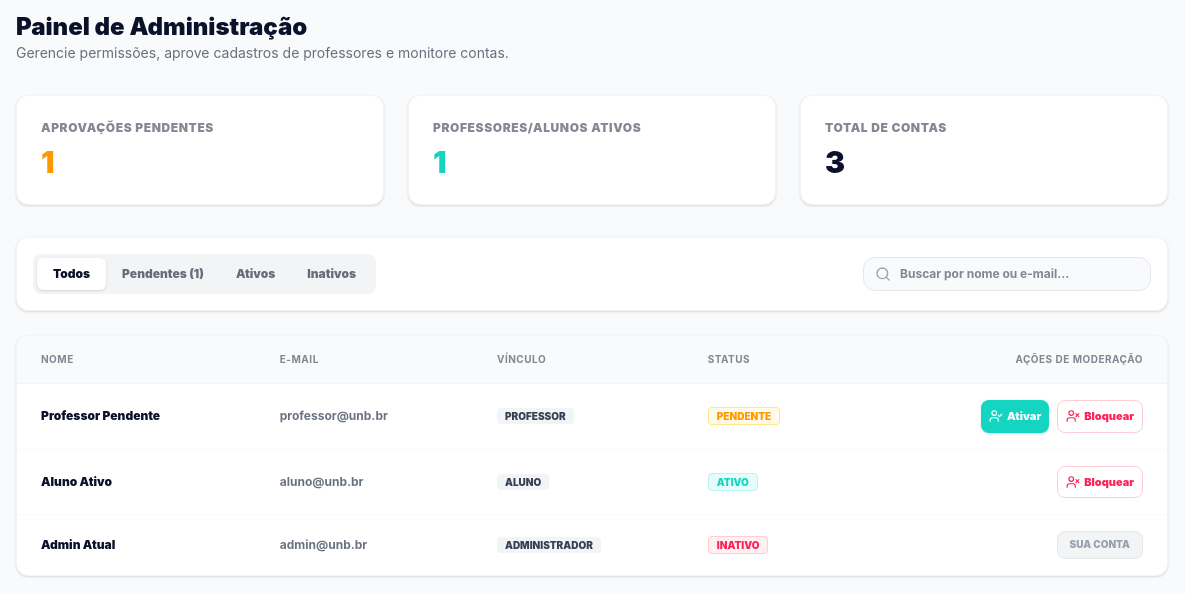
AdminDashboardPage › deve filtrar usuários por aba e por texto de busca
Expected: the text "Professor Pendente" is shown, [17,384,264,449]
Click the button "Pendentes (1)".
click(163, 274)  # box [106,258,220,290]
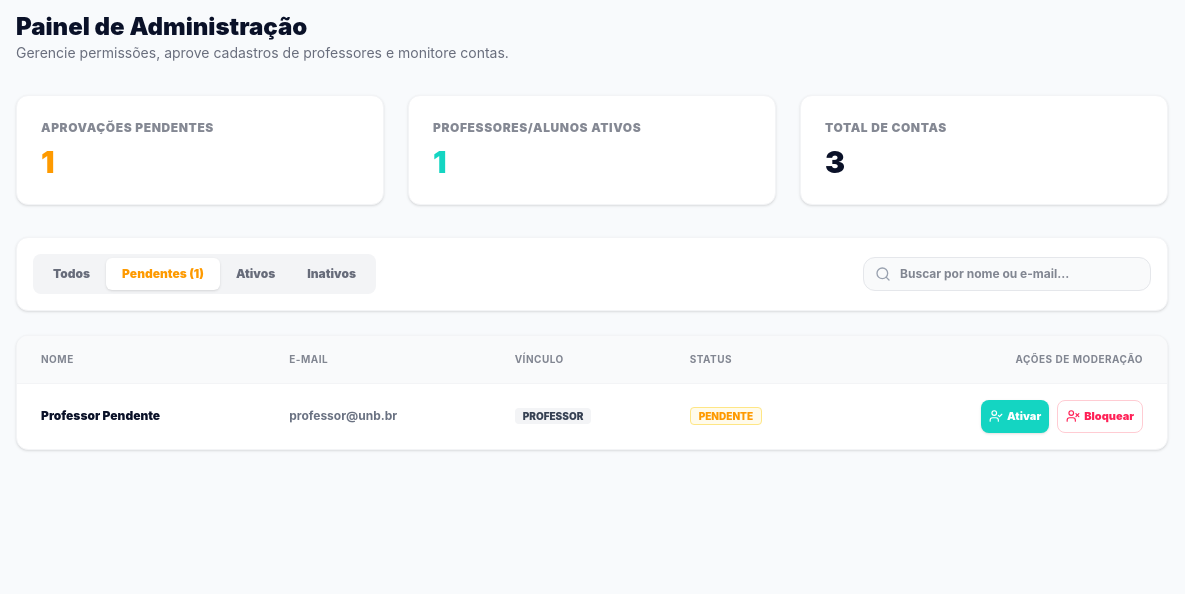
Expected: the text "Professor Pendente" is shown, [17,384,273,449]
Expected: the text "Aluno Ativo" is gone
Click the button "Ativos".
click(256, 274)  # box [220,258,291,290]
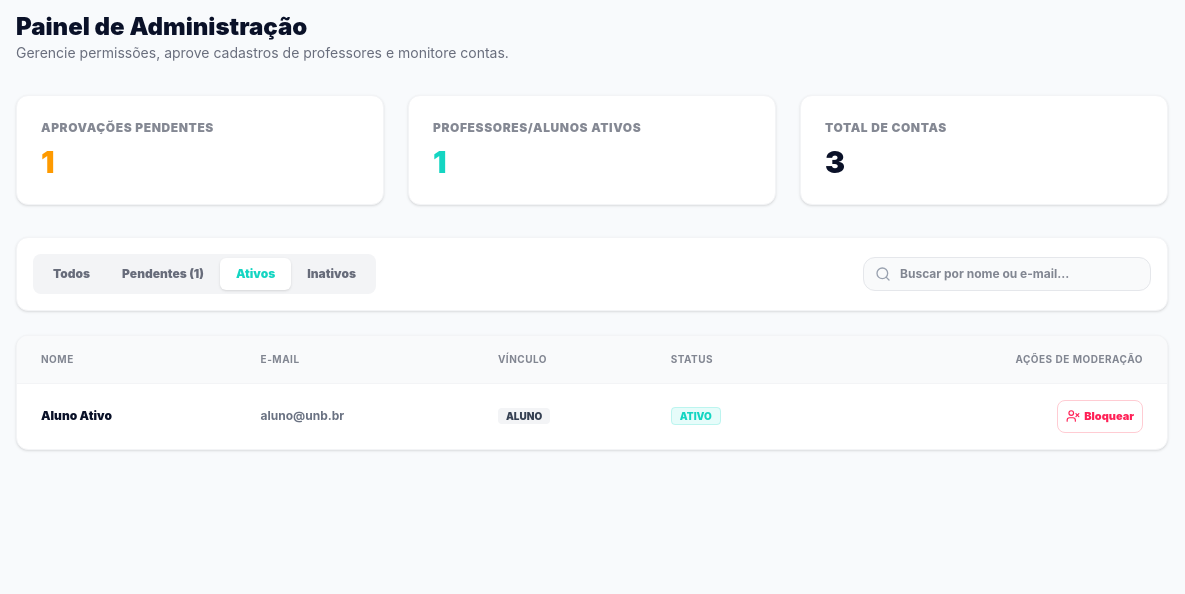
Expected: the text "Aluno Ativo" is shown, [17,384,245,449]
Expected: the text "Professor Pendente" is gone
Click the button "Inativos".
click(332, 274)  # box [291,258,372,290]
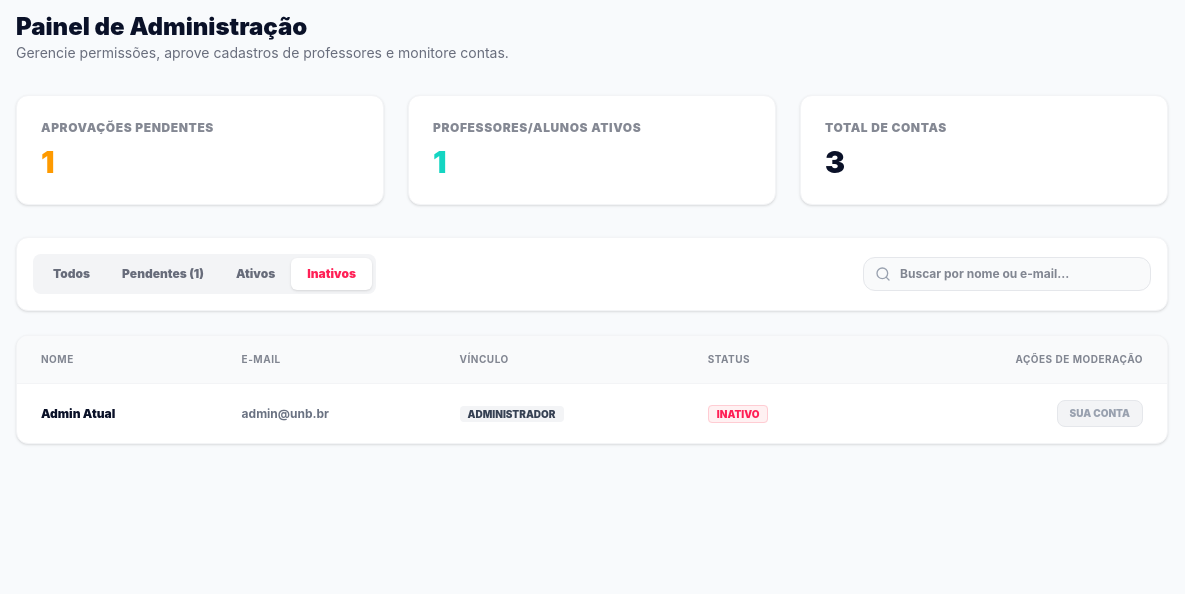
Expected: the text "Admin Atual" is shown, [17,384,226,443]
Expected: the text "Aluno Ativo" is gone
Click the button "Todos".
click(72, 274)  # box [37,258,106,290]
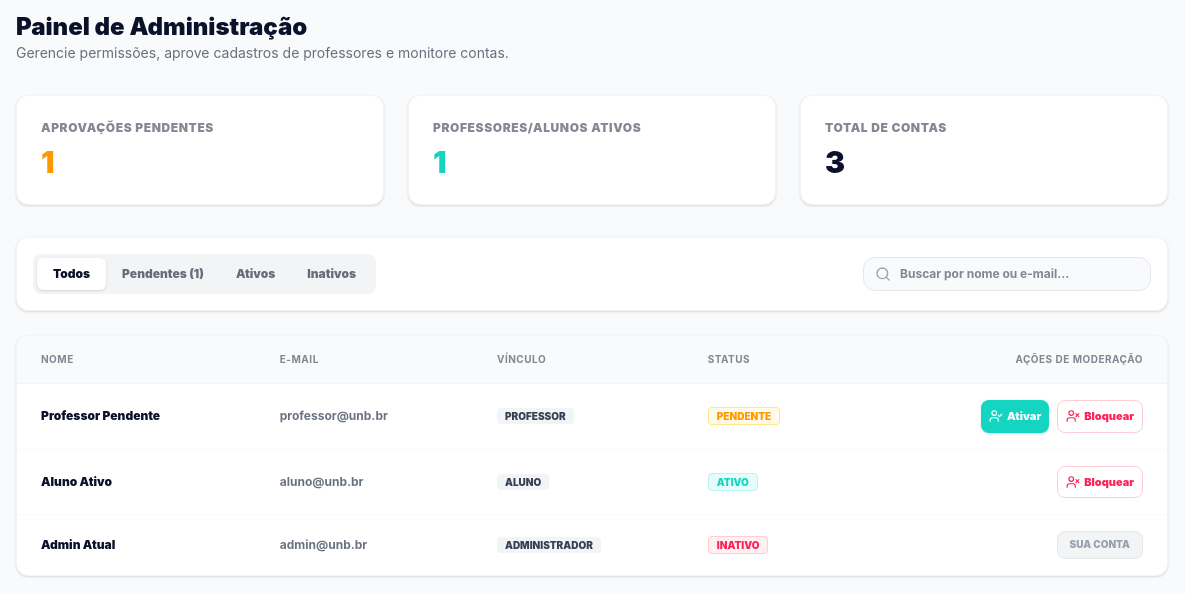
Type "professor" into the field with placeholder "Buscar por nome ou e-mail...".
click(1007, 274); type("professor")  # box [863,257,1151,291]
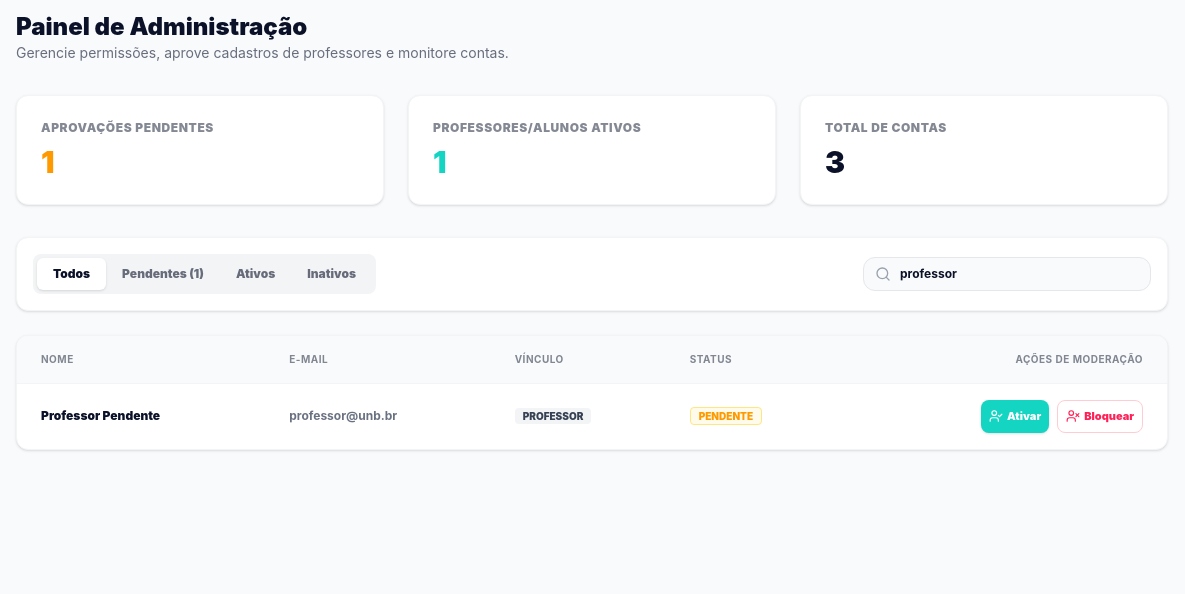
Expected: the text "Professor Pendente" is shown, [17,384,273,449]
Expected: the text "Aluno Ativo" is gone
Expected: the text "Admin Atual" is gone
